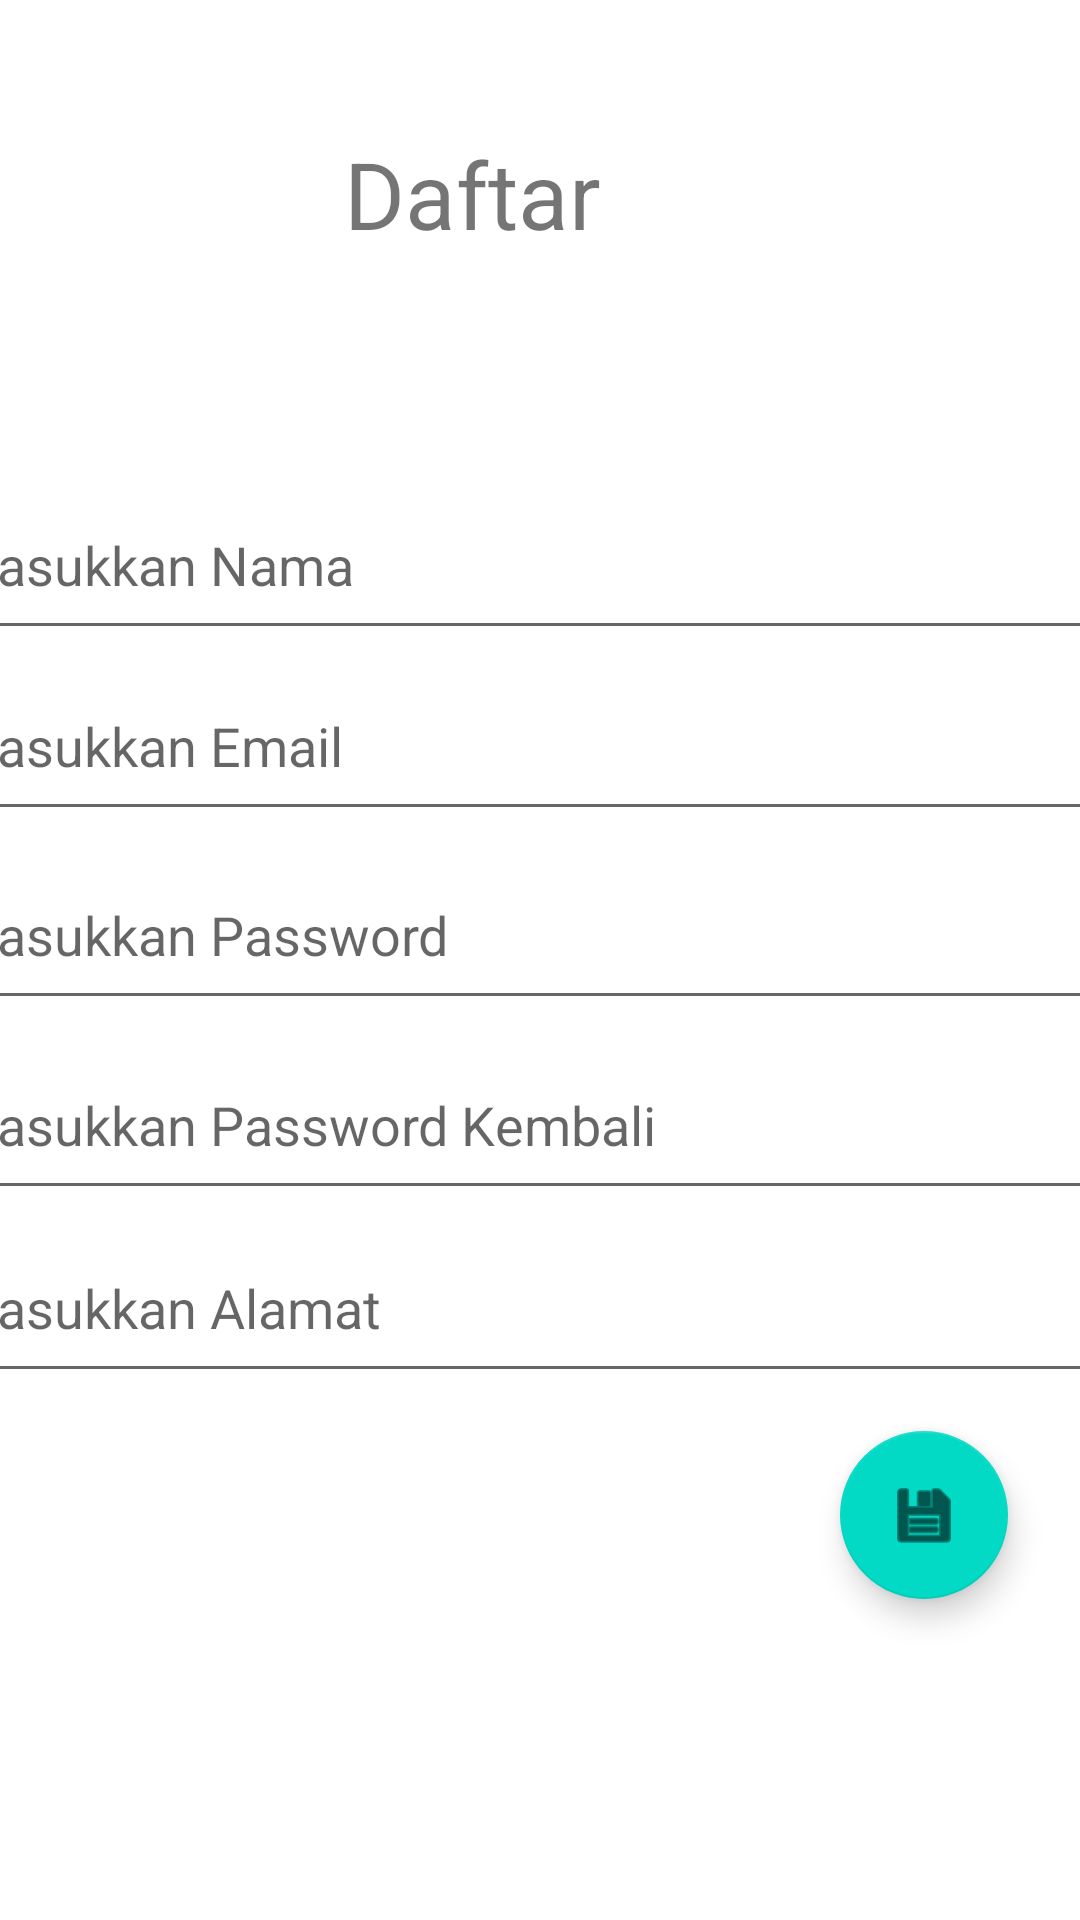

Locate icon controls on the screen. Image size 1080×1920, boxes as (x1, y1, x2, y2).
save: (840, 1431, 1008, 1599)
